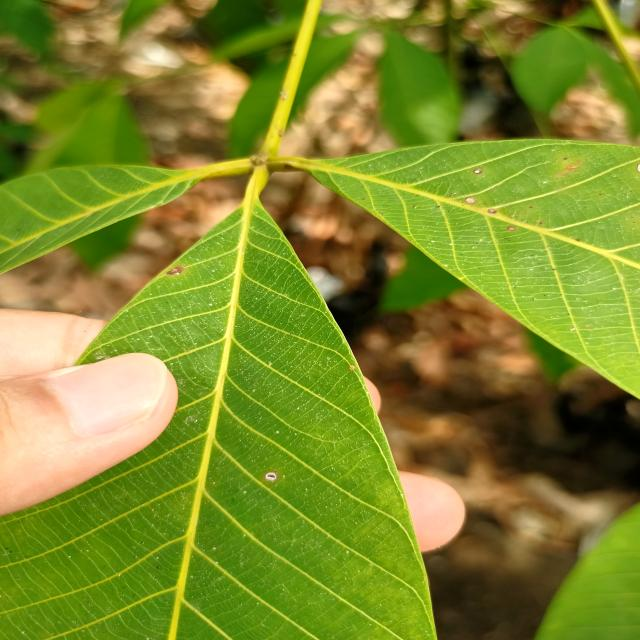Colletotrichum: (264, 471, 278, 481), (465, 198, 475, 204), (488, 208, 497, 214), (507, 227, 516, 231), (474, 169, 481, 174)
